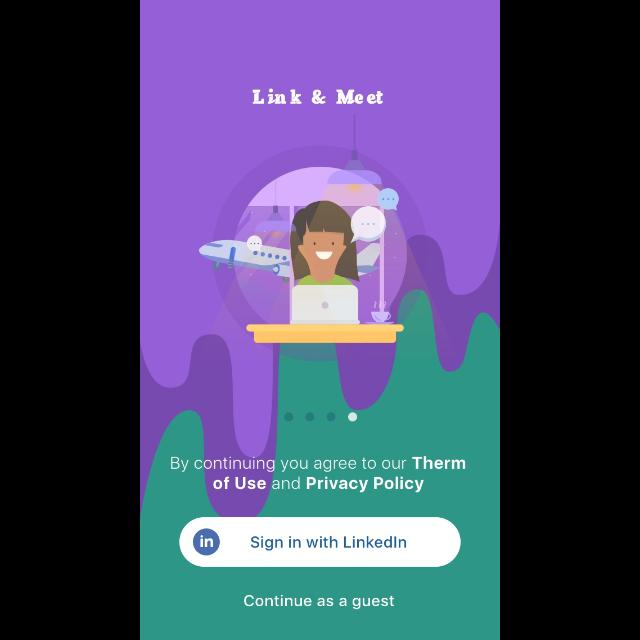backgroundimage: (141, 2, 501, 640)
image: (198, 146, 428, 344)
pageindicator: (284, 412, 358, 422)
text: (171, 455, 467, 493), (244, 594, 394, 610), (252, 89, 384, 105)
textbutton: (180, 517, 462, 567)
